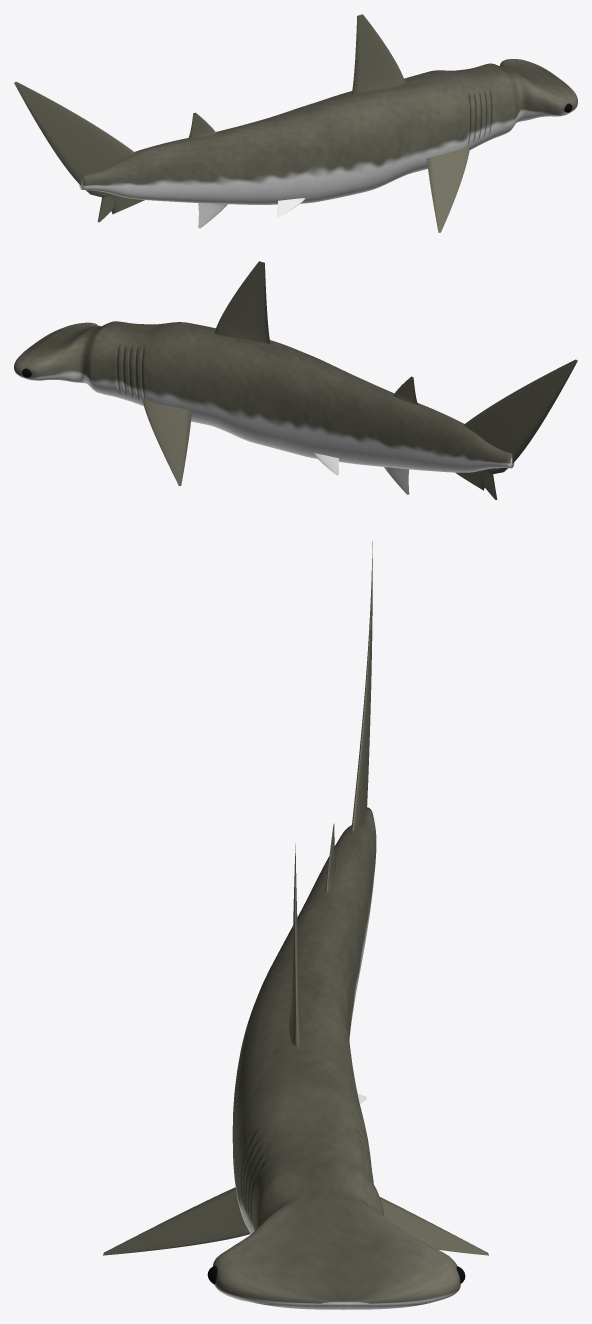
The model's file is bonnethead.glb.
The picture shows the model from 3 angles, top to bottom: view 1: azimuth 30°, elevation 25°; view 2: azimuth 150°, elevation 25°; view 3: azimuth 270°, elevation 25°; orthographic projection. The views are drawn at different scales.
Parts seen in each view (by area): view 1: Bonnethead_Body, Bonnethead_Fins; view 2: Bonnethead_Body, Bonnethead_Fins; view 3: Bonnethead_Body, Bonnethead_Fins.
Boxes of the visible parts, x1=… form: Bonnethead_Body: x1=79, y1=59, x2=577, y2=204; Bonnethead_Fins: x1=14, y1=14, x2=469, y2=232; Bonnethead_Body: x1=14, y1=321, x2=514, y2=472; Bonnethead_Fins: x1=143, y1=261, x2=577, y2=499; Bonnethead_Body: x1=213, y1=807, x2=460, y2=1309; Bonnethead_Fins: x1=103, y1=541, x2=488, y2=1255.
Bounding box in the file's own units: 0.9 × 0.3038 × 0.2785.
3 materials, 1 textured.
